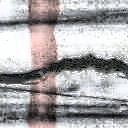crackTip: (1, 55, 128, 84)
